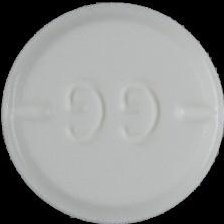58118-1391: (0, 0, 224, 224)
